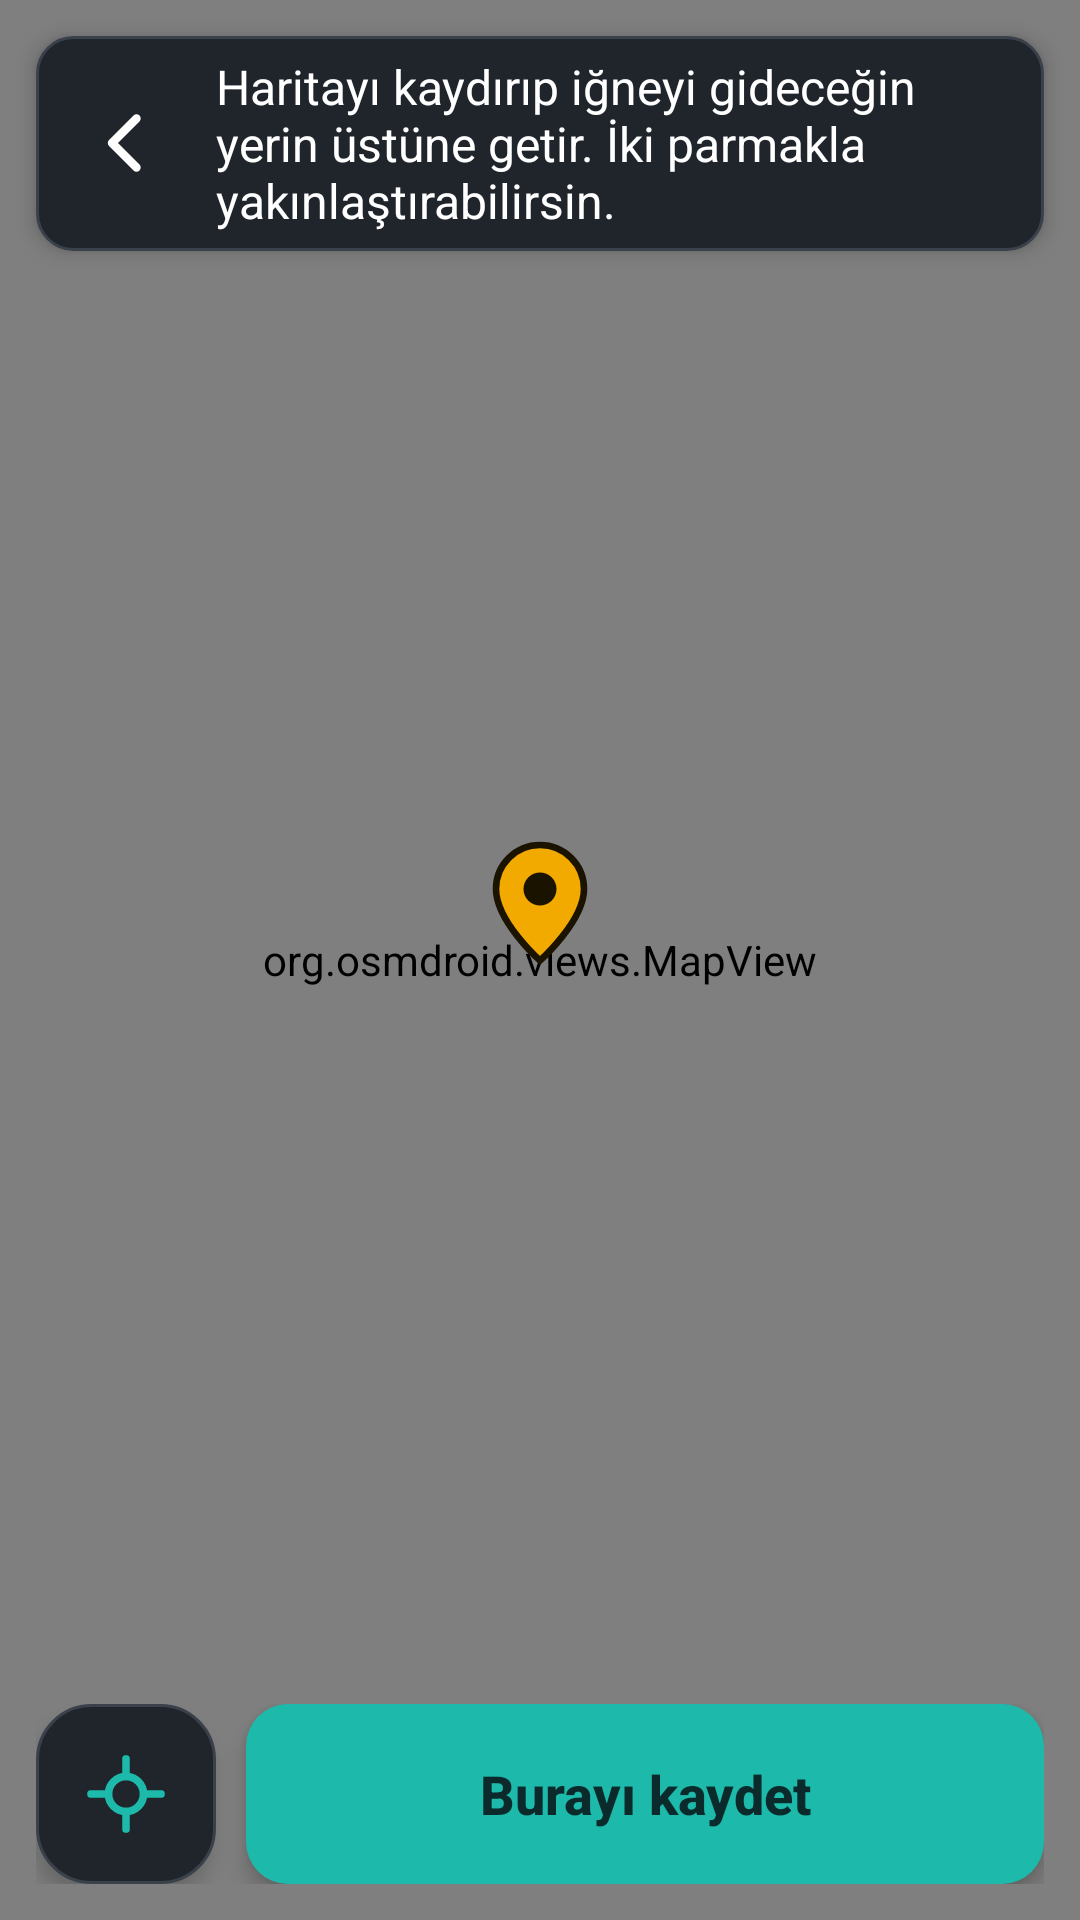

Screen size 1080px×1920px. Icon name, then its box in pixels as Rect(x1, y1, x2, y2):
Geri: Rect(107, 114, 141, 172)
Konumuma git: Rect(36, 1704, 216, 1884)
